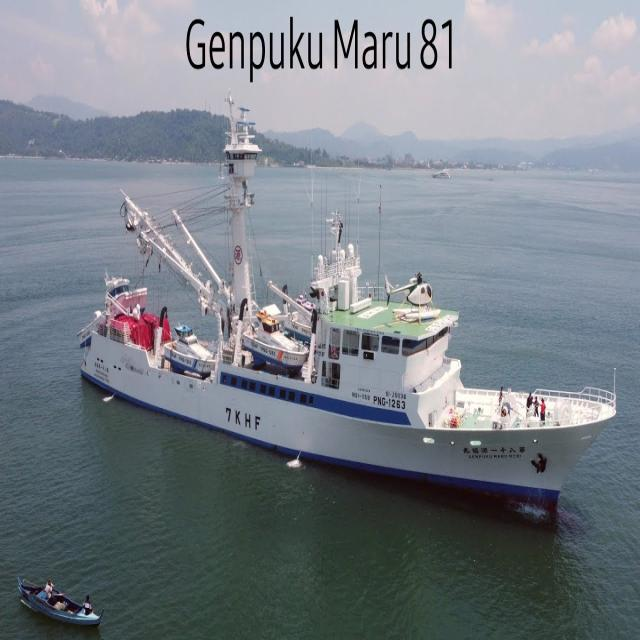boat: (76, 96, 625, 552)
